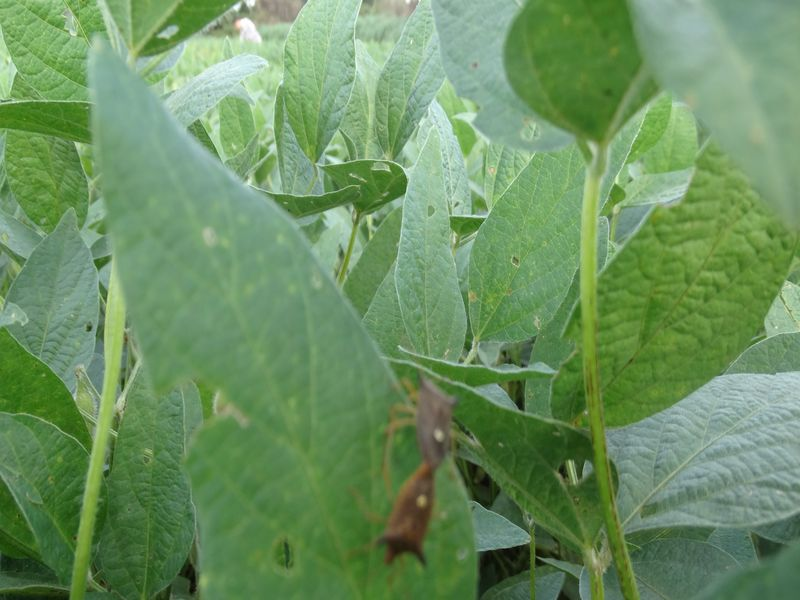Euschistus_heros_adulto: (373, 361, 477, 468), (351, 467, 444, 577)
